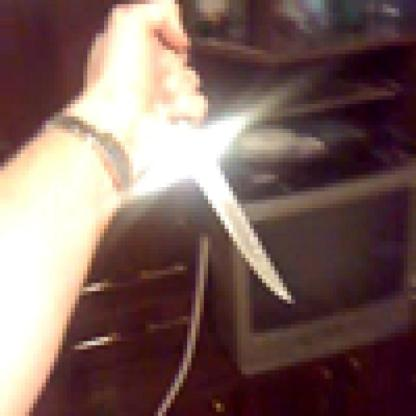Knife: (103, 8, 290, 312)
